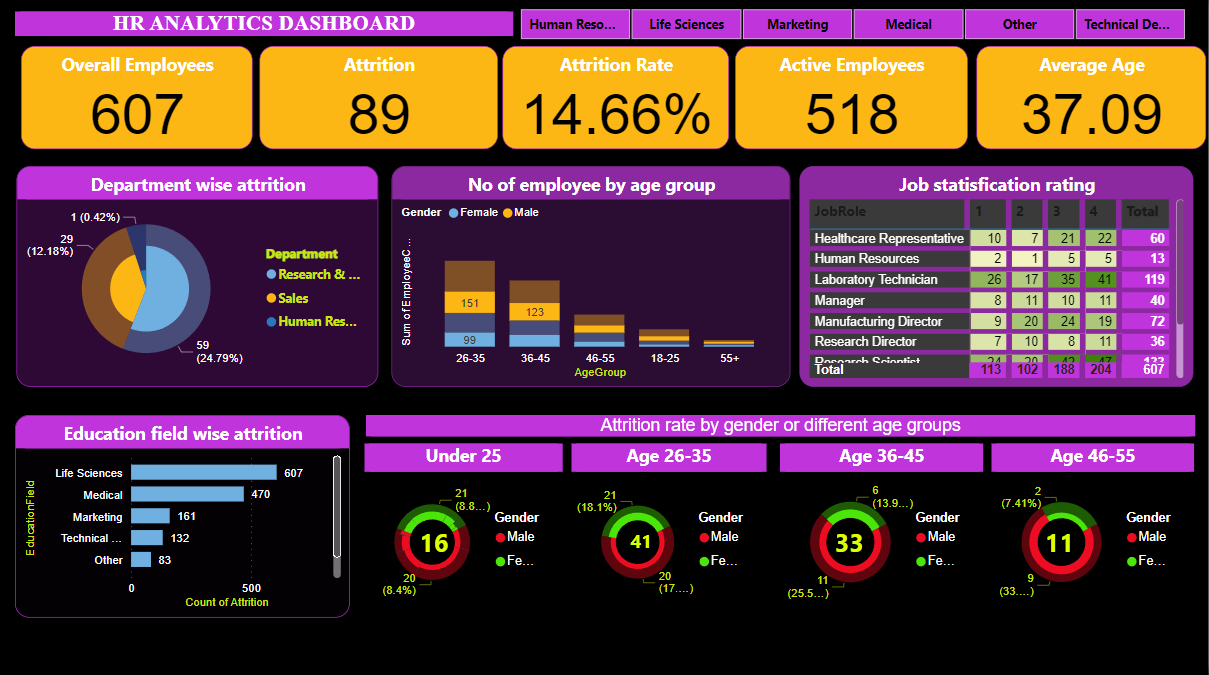

Layout of this report page (visuals, bound fields, positions):
{"tool":"powerbi","page":{"name":"HR_ANALYTICS","canvas":[1280,720],"ordinal":0},"visuals":[{"type":"card","title":"Overall Employees","fields":{"Values":["Sum(HR_Analytics.EmployeeCount)"]},"box":[21.6,53.6,245.4,109.3],"z":0},{"type":"card","title":"Attrition","fields":{"Values":["Sum(HR_Analytics.Attrition count)"]},"box":[274.2,53.6,252.6,109.3],"z":1000},{"type":"card","title":"Attrition Rate","fields":{"Values":["HR_Analytics.attrition rate"]},"box":[532,53.6,240.2,109.3],"z":2000},{"type":"card","title":"Active Employees","fields":{"Values":["HR_Analytics.Active employees"]},"box":[779.4,53.6,246.4,109.3],"z":3000},{"type":"card","title":"Average Age","fields":{"Values":["Avg(HR_Analytics.Age)"]},"box":[1034,53.6,243.3,109.3],"z":4000},{"type":"pieChart","title":"Department wise attrition","fields":{"Category":["HR_Analytics.Department"],"Y":["Sum(HR_Analytics.Attrition count)"]},"box":[17.5,180.4,383.5,234],"z":5000},{"type":"columnChart","title":"No of employee by age group","fields":{"Category":["HR_Analytics.AgeGroup"],"Y":["Sum(HR_Analytics.EmployeeCount)"],"Series":["HR_Analytics.Gender"]},"box":[424.4,181.2,422.8,233.6],"z":6000},{"type":"pivotTable","title":"Job statisfication rating","fields":{"Rows":["HR_Analytics.JobRole"],"Columns":["HR_Analytics.JobSatisfaction"],"Values":["Sum(HR_Analytics.EmployeeCount)"]},"box":[847.4,180.4,417.5,234],"z":7000},{"type":"barChart","title":"Education field wise attrition","fields":{"Category":["HR_Analytics.EducationField"],"Y":["CountNonNull(HR_Analytics.Attrition)"]},"box":[15.5,444.3,354.6,214.4],"z":8000},{"type":"donutChart","title":"Under 25","fields":{"Category":["HR_Analytics.Gender"],"Y":["Sum(HR_Analytics.Attrition count)"],"Series":["HR_Analytics.AgeGroup"]},"box":[386.9,475.4,209.8,183.6],"z":9000},{"type":"textbox","title":"Attrition rate by gender or different age groups","box":[387.6,444.3,878.4,22.7],"z":10000},{"type":"donutChart","title":"Age 26-35","fields":{"Category":["HR_Analytics.Gender"],"Y":["Sum(HR_Analytics.Attrition count)"],"Series":["HR_Analytics.AgeGroup"]},"box":[604.9,475.4,206.6,183.6],"z":11000},{"type":"donutChart","title":"Age 36-45","fields":{"Category":["HR_Analytics.Gender"],"Y":["Sum(HR_Analytics.Attrition count)"],"Series":["HR_Analytics.AgeGroup"]},"box":[825.8,475.3,215.5,183.5],"z":12000},{"type":"donutChart","title":"Age 46-55","fields":{"Category":["HR_Analytics.Gender"],"Y":["Sum(HR_Analytics.Attrition count)"],"Series":["HR_Analytics.AgeGroup"]},"box":[1050.8,475.4,214.8,183.6],"z":13000},{"type":"card","fields":{"Values":["Sum(HR_Analytics.Attrition count)"]},"box":[435.1,557.7,47.4,44.3],"z":14000},{"type":"card","fields":{"Values":["Sum(HR_Analytics.Attrition count)"]},"box":[650.5,562.9,57.7,34],"z":15000},{"type":"card","fields":{"Values":["Sum(HR_Analytics.Attrition count)"]},"box":[876.3,557.7,47.4,44.3],"z":16000},{"type":"card","fields":{"Values":["Sum(HR_Analytics.Attrition count)"]},"box":[1097.9,557.7,47.4,44.3],"z":17000},{"type":"textbox","title":"HR ANALYTICS DASHBOARD","box":[15.9,12.7,527.7,35],"z":18000},{"type":"slicer","fields":{"Values":["HR_Analytics.EducationField"]},"box":[526.8,8.2,753.6,45.4],"z":19000}]}

Visuals, with their boxes in screenshot pixels (x1, y1, x2, y2), scaled from the page's 1280x720 canvas onto the 1209x675 screenshot:
"Overall Employees" card: detection(20, 50, 252, 153)
"Attrition" card: detection(259, 50, 498, 153)
"Attrition Rate" card: detection(502, 50, 729, 153)
"Active Employees" card: detection(736, 50, 969, 153)
"Average Age" card: detection(977, 50, 1206, 153)
"Department wise attrition" pieChart: detection(17, 169, 379, 388)
"No of employee by age group" columnChart: detection(401, 170, 800, 389)
"Job statisfication rating" pivotTable: detection(800, 169, 1195, 388)
"Education field wise attrition" barChart: detection(15, 417, 350, 618)
"Under 25" donutChart: detection(365, 446, 564, 618)
"Attrition rate by gender or different age groups" textbox: detection(366, 417, 1196, 438)
"Age 26-35" donutChart: detection(571, 446, 766, 618)
"Age 36-45" donutChart: detection(780, 446, 984, 618)
"Age 46-55" donutChart: detection(993, 446, 1195, 618)
card - Sum(HR_Analytics.Attrition count): detection(411, 523, 456, 564)
card - Sum(HR_Analytics.Attrition count): detection(614, 528, 669, 560)
card - Sum(HR_Analytics.Attrition count): detection(828, 523, 872, 564)
card - Sum(HR_Analytics.Attrition count): detection(1037, 523, 1082, 564)
"HR ANALYTICS DASHBOARD" textbox: detection(15, 12, 513, 45)
slicer - HR_Analytics.EducationField: detection(498, 8, 1208, 50)
